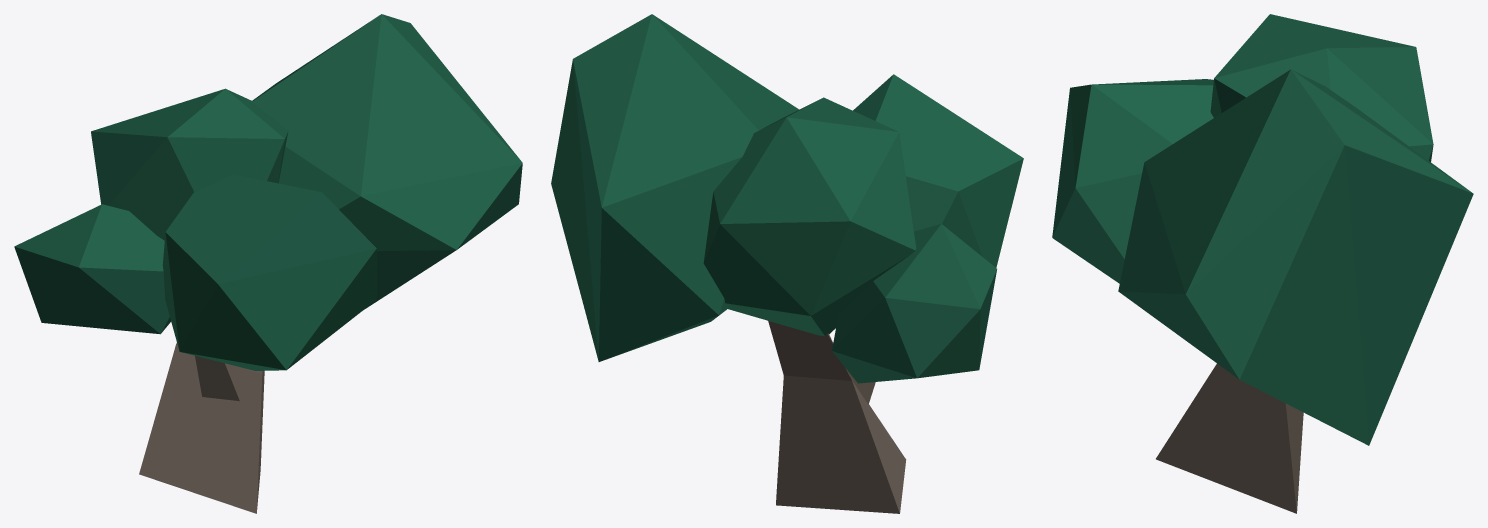
The model's file is map_forest_tree_3.fbx.
3 views of the same model, side by side, from view 1: azimuth 30°, elevation 25°; view 2: azimuth 150°, elevation 25°; view 3: azimuth 270°, elevation 25° (orthographic). The views are drawn at different scales.
Visible parts, largest first — view 1: tree_3; view 2: tree_3; view 3: tree_3.
Boxes of the visible parts, x1=… form: tree_3: x1=14, y1=14, x2=522, y2=513; tree_3: x1=551, y1=14, x2=1023, y2=513; tree_3: x1=1052, y1=14, x2=1473, y2=513.
Size of the model in its own units: 687 by 621 by 462.
